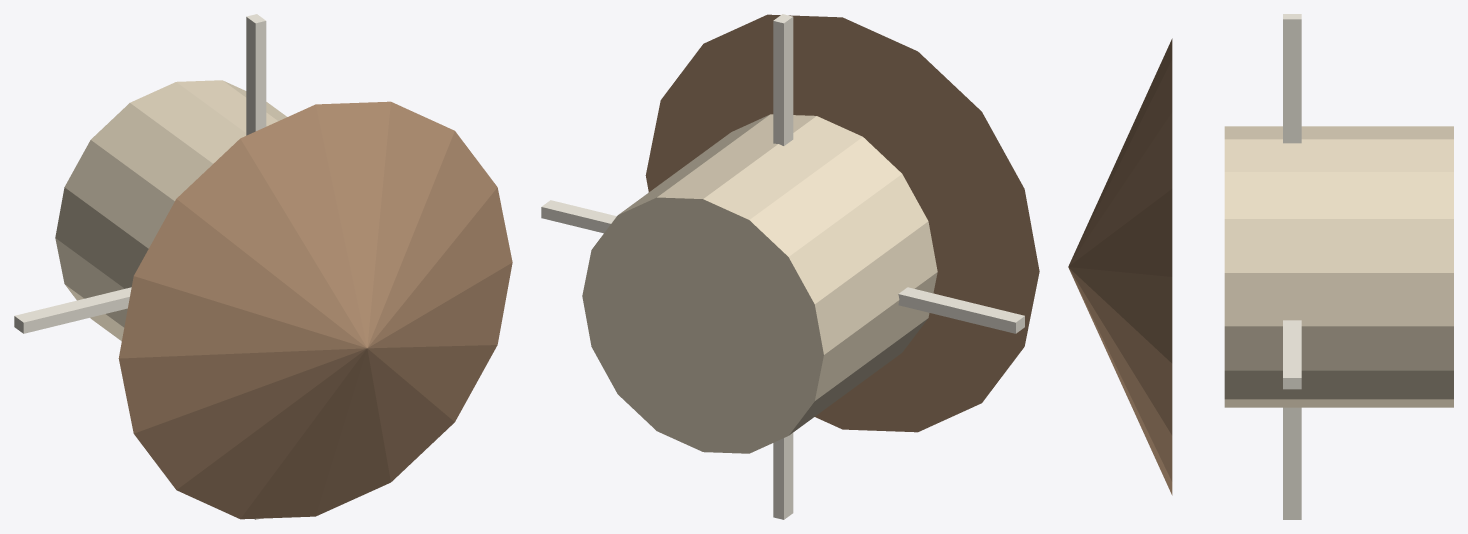
The model's file is mill.glb.
The picture shows the model from 3 angles, left to right: view 1: azimuth 30°, elevation 25°; view 2: azimuth 150°, elevation 25°; view 3: azimuth 270°, elevation 25°; orthographic projection.
Parts seen in each view (by area): view 1: roof, body, blade1.5707963267948966, blade3.141592653589793; view 2: body, roof, blade1.5707963267948966, blade3.141592653589793, blade4.71238898038469, blade0; view 3: body, roof, blade1.5707963267948966, blade4.71238898038469, blade0.
Boxes of the visible parts, bbox=[...] form: roof: bbox=[118, 101, 512, 519]; body: bbox=[55, 80, 286, 341]; blade1.5707963267948966: bbox=[246, 14, 266, 135]; blade3.141592653589793: bbox=[14, 287, 131, 333]; body: bbox=[582, 114, 937, 453]; roof: bbox=[645, 14, 1039, 432]; blade1.5707963267948966: bbox=[773, 14, 793, 145]; blade3.141592653589793: bbox=[898, 287, 1024, 333]; blade4.71238898038469: bbox=[773, 433, 793, 519]; blade0: bbox=[541, 200, 616, 233]; body: bbox=[1224, 126, 1453, 407]; roof: bbox=[1068, 38, 1172, 495]; blade1.5707963267948966: bbox=[1283, 14, 1301, 143]; blade4.71238898038469: bbox=[1283, 407, 1301, 519]; blade0: bbox=[1283, 320, 1301, 389].
Size of the model in its own units: 5.3 by 5.3 by 3.7.
